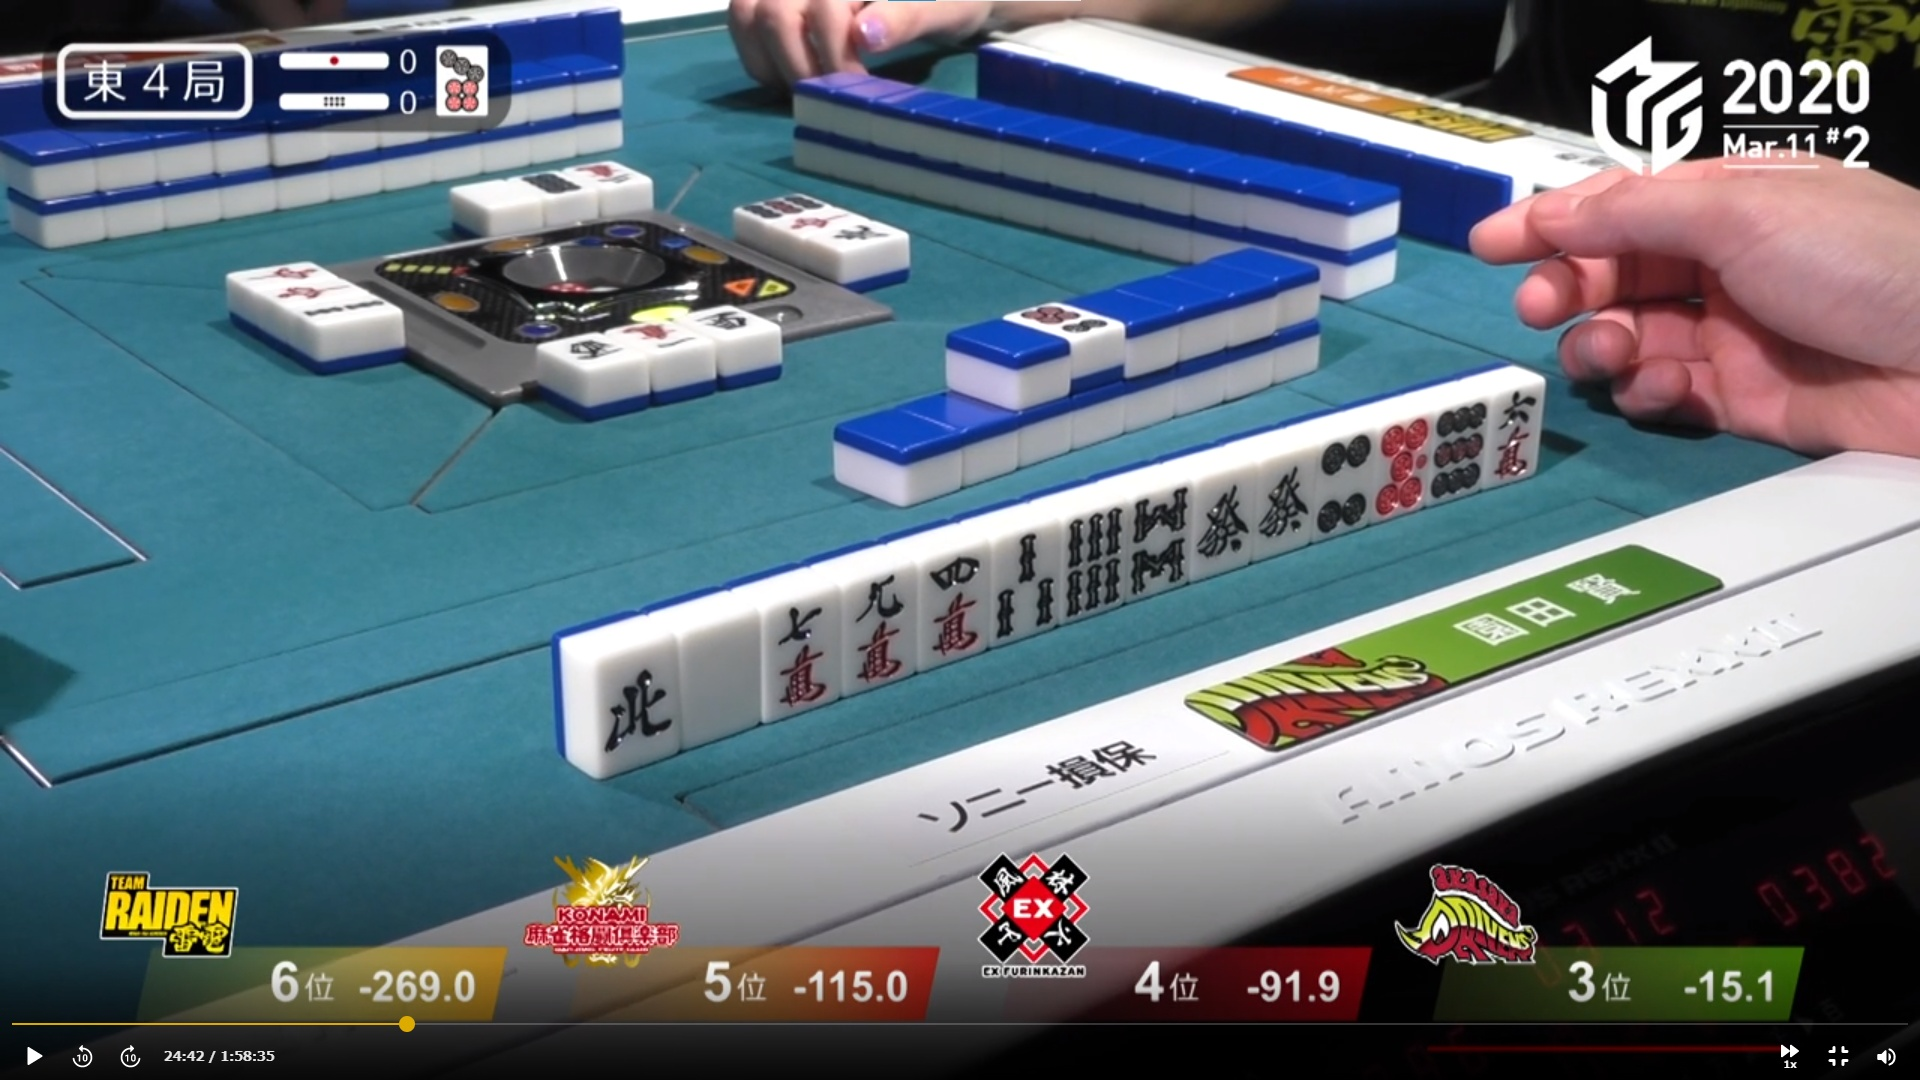3s: (986, 517, 1058, 638)
4m: (913, 541, 986, 666)
4p: (1315, 429, 1370, 534)
5pr: (1374, 413, 1429, 516)
6m: (1486, 377, 1542, 487)
6s: (1058, 504, 1124, 617)
7m: (761, 582, 833, 715)
8p: (1432, 398, 1486, 498)
8s: (1120, 487, 1193, 597)
9m: (836, 566, 909, 688)
haku: (675, 592, 757, 736)
hand_ton_4: (55, 40, 255, 121)
hatsu: (1196, 463, 1254, 575), (1255, 450, 1311, 556)
pei: (593, 638, 679, 773)
round_0: (268, 86, 419, 119)
team_drivens: (1178, 620, 1455, 752)
